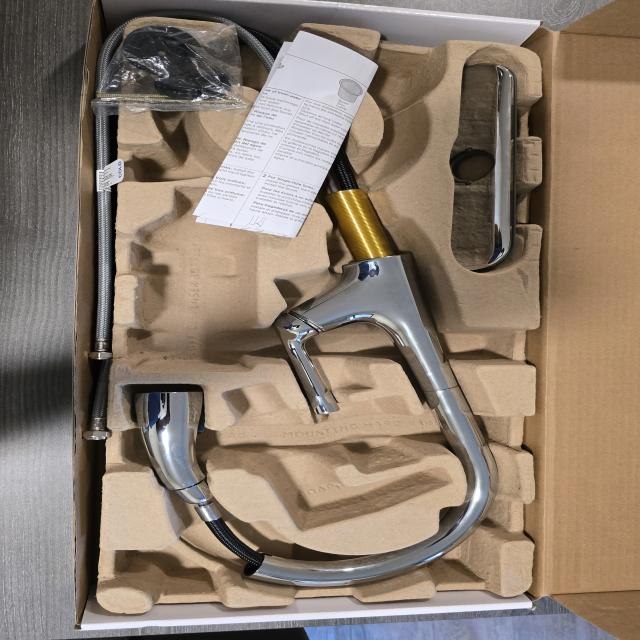1o: (134, 25, 496, 588)
2m: (221, 382, 448, 531)
3m: (133, 187, 252, 372)
4: (447, 63, 514, 274)
5m: (367, 56, 443, 110)
6m: (127, 120, 267, 189)
7: (94, 26, 257, 113)
8: (190, 29, 381, 237)
